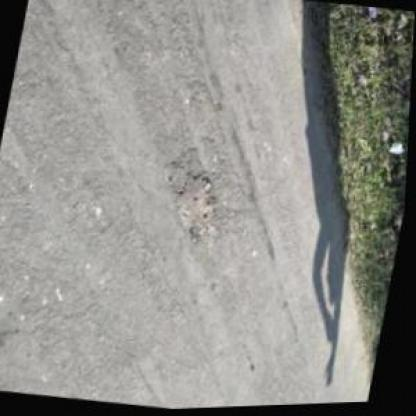pothole: (167, 171, 224, 241)
